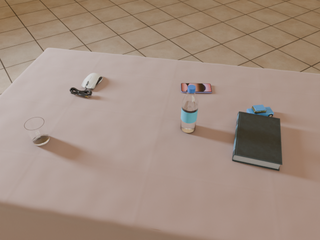book: (232, 112, 282, 171)
bottle: (181, 85, 198, 133)
cup: (24, 117, 49, 146)
mouse: (82, 73, 103, 90)
phone: (181, 83, 212, 93)
toy_car: (247, 105, 274, 117)
